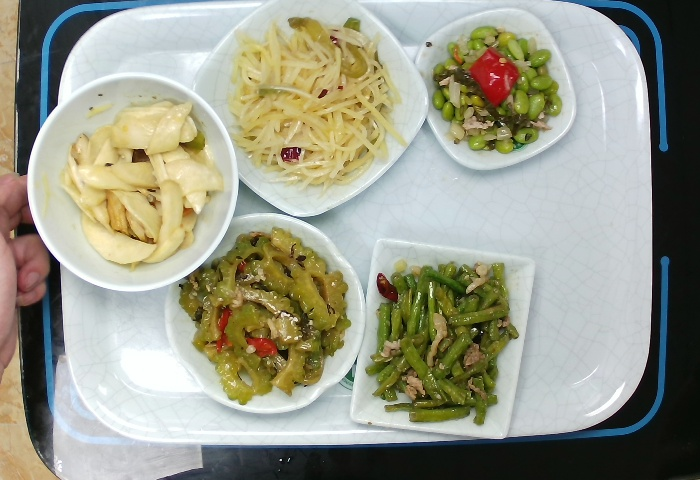JYsf-Ao_Yuan_Wan: (156, 208, 368, 420)
JYsf-Fan_Wan: (25, 66, 243, 299)
JYsf-Si_Fang_Die: (412, 5, 580, 179)
WCQzf-Da_Si_Fang_Die: (185, 5, 432, 227)
WCQzf-Ru_Ci_Si_Fang_Die: (348, 230, 542, 444)
